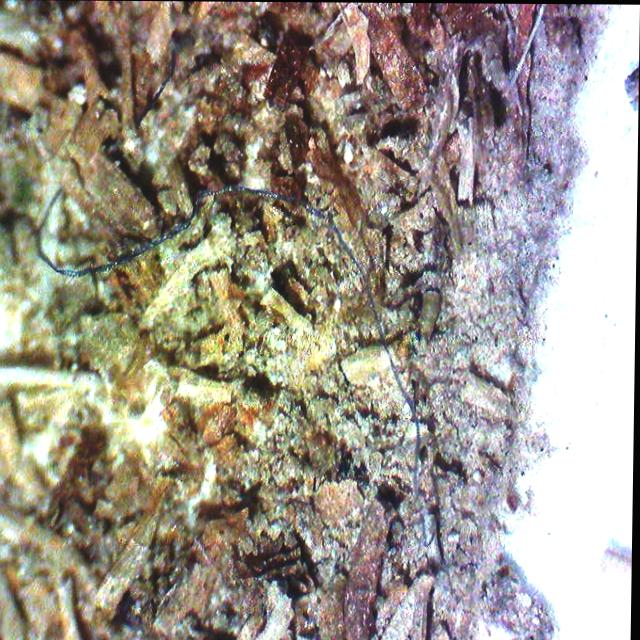microplastic: (35, 129, 449, 388)
